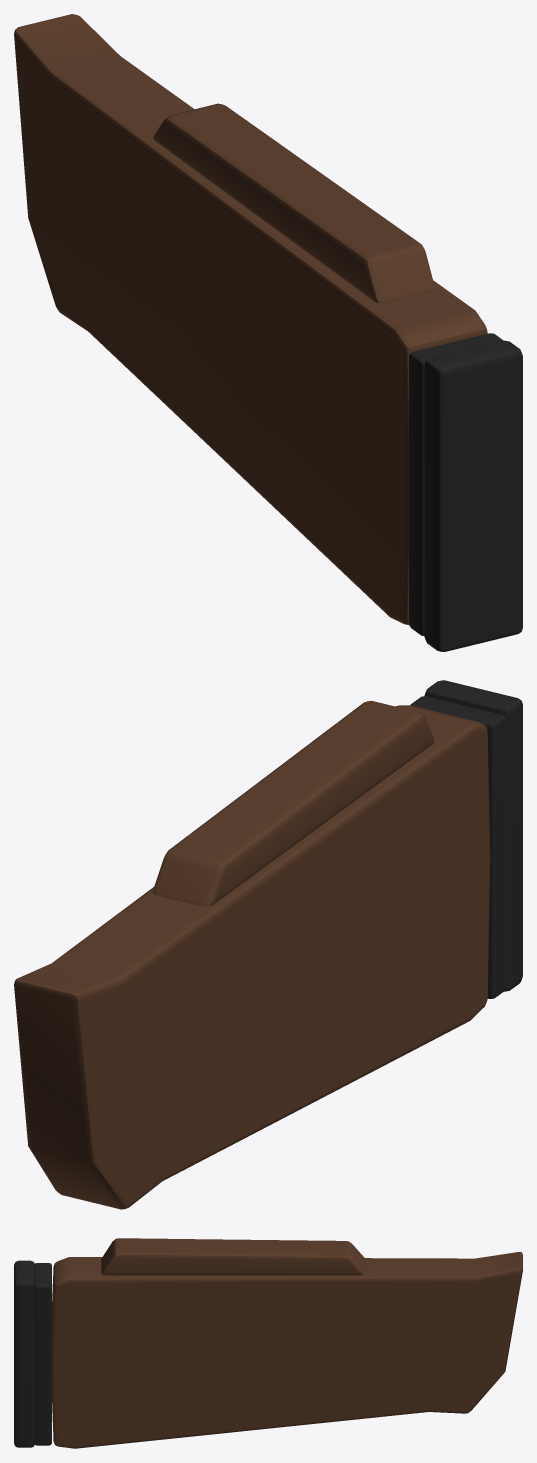
File: mod_shrike_target_stock.glb
The picture shows the model from 3 angles, top to bottom: view 1: azimuth 30°, elevation 25°; view 2: azimuth 150°, elevation 25°; view 3: azimuth 270°, elevation 25°; orthographic projection. The views are drawn at different scales.
Visible parts, largest first — view 1: Stock, StockRecoilPad, StockComb, StockPad; view 2: Stock, StockComb, StockRecoilPad, StockPad; view 3: Stock, StockComb, StockRecoilPad, StockPad.
Boxes of the visible parts, bbox=[...] form: Stock: bbox=[14, 14, 487, 625]; StockRecoilPad: bbox=[424, 340, 522, 651]; StockComb: bbox=[153, 103, 434, 303]; StockPad: bbox=[409, 333, 503, 635]; Stock: bbox=[14, 705, 490, 1209]; StockComb: bbox=[153, 700, 434, 906]; StockRecoilPad: bbox=[424, 680, 522, 991]; StockPad: bbox=[410, 696, 506, 998]; Stock: bbox=[52, 1252, 522, 1448]; StockComb: bbox=[101, 1238, 365, 1275]; StockRecoilPad: bbox=[14, 1260, 34, 1447]; StockPad: bbox=[34, 1263, 51, 1445].
Size of the model in its own units: 0.038 by 0.14 by 0.3335.
